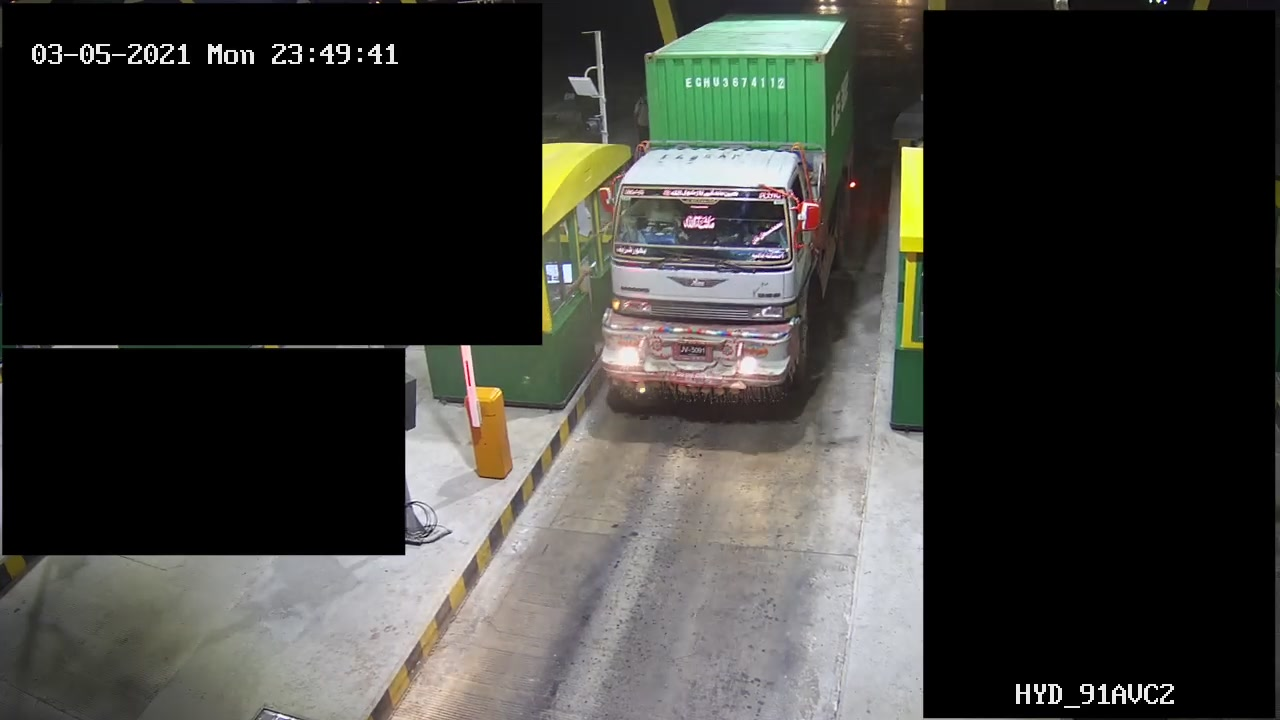F6: (594, 9, 863, 433)
